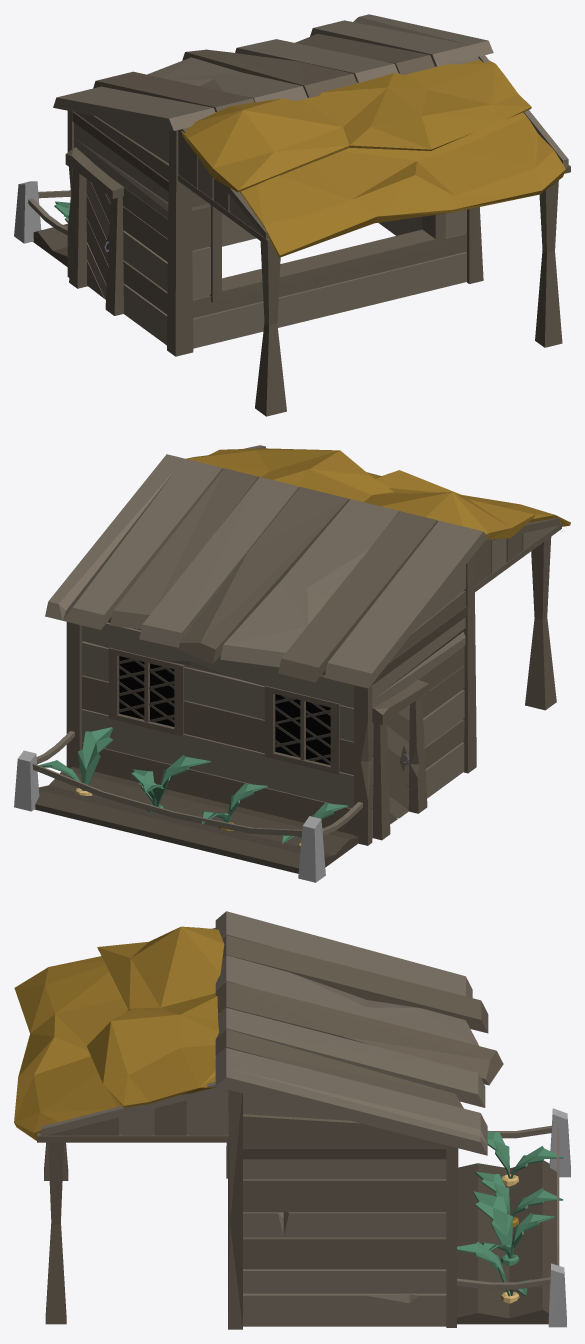
Rendered from HerbalistHouse.glb.
The picture shows the model from 3 angles, top to bottom: view 1: azimuth 30°, elevation 25°; view 2: azimuth 150°, elevation 25°; view 3: azimuth 270°, elevation 25°; orthographic projection. The views are drawn at different scales.
Parts seen in each view (by area): view 1: Herbalist_s_house; view 2: Herbalist_s_house; view 3: Herbalist_s_house.
Boxes of the visible parts, box(x1,y1,x2,y2) form: Herbalist_s_house: box(14, 14, 570, 416); Herbalist_s_house: box(14, 445, 570, 882); Herbalist_s_house: box(14, 911, 570, 1329).
Size of the model in its own units: 5.46 by 4.09 by 7.73.
1 material, 1 textured.
